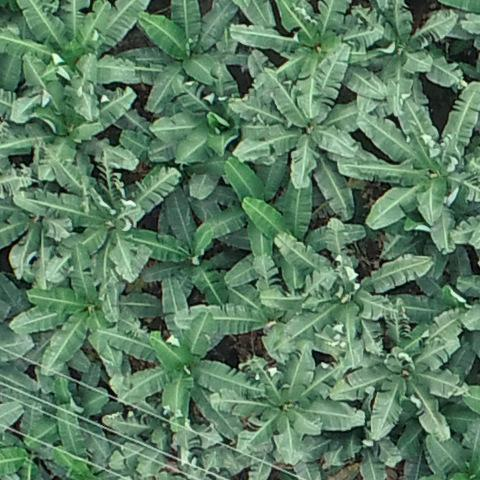Banana-plant: (340, 84, 480, 254), (9, 248, 161, 377), (100, 316, 261, 437), (15, 161, 177, 281), (269, 219, 431, 335), (334, 305, 463, 443), (2, 53, 138, 180), (230, 47, 356, 184), (210, 346, 365, 453), (241, 177, 364, 290), (130, 187, 245, 305), (122, 0, 240, 107), (0, 0, 149, 84), (150, 81, 251, 199), (350, 0, 458, 101), (232, 0, 381, 67), (19, 369, 109, 472), (108, 407, 220, 477), (421, 424, 480, 480)
